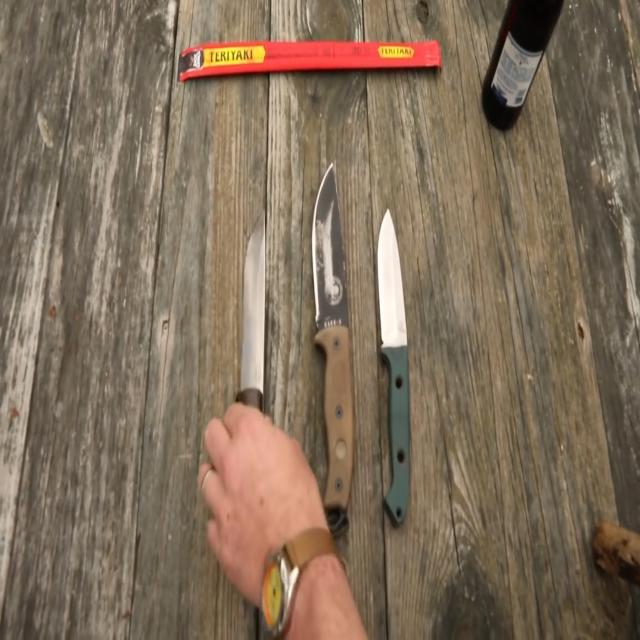knife: (307, 155, 364, 518), (370, 197, 424, 539), (237, 208, 275, 422)
